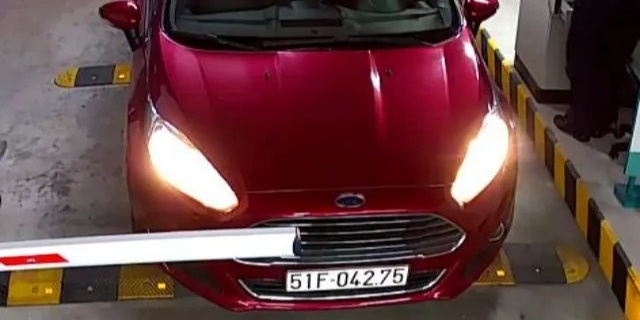bien_so: (288, 267, 408, 290)
